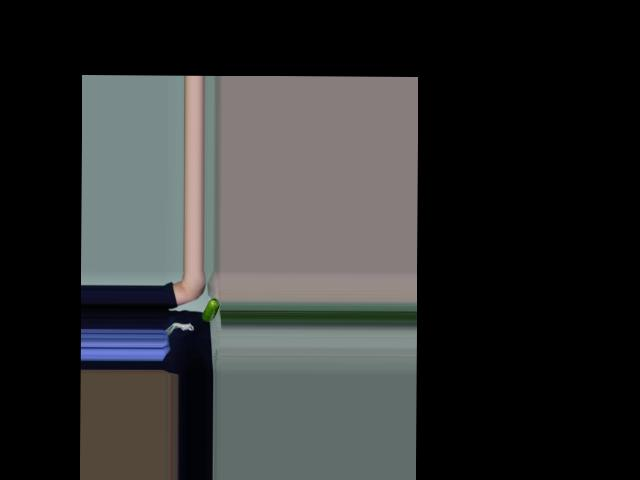cucumber: (202, 298, 219, 321)
